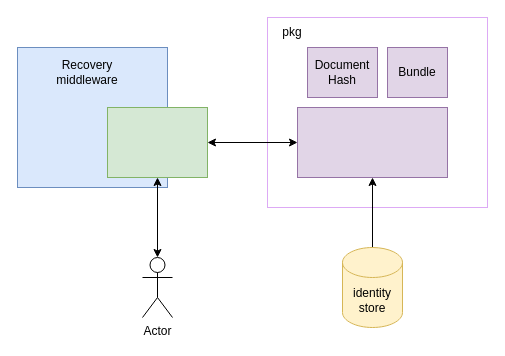
The diagram is 505 pixels wide and 356 high, and some of its shapes have lost their labels. The shapes that lost their labels are listed below. From the top down, each one's centre as x and y in pixels, then its label:
(x=157, y=142): Identity HTTP handler
(x=372, y=142): Identity Svc
